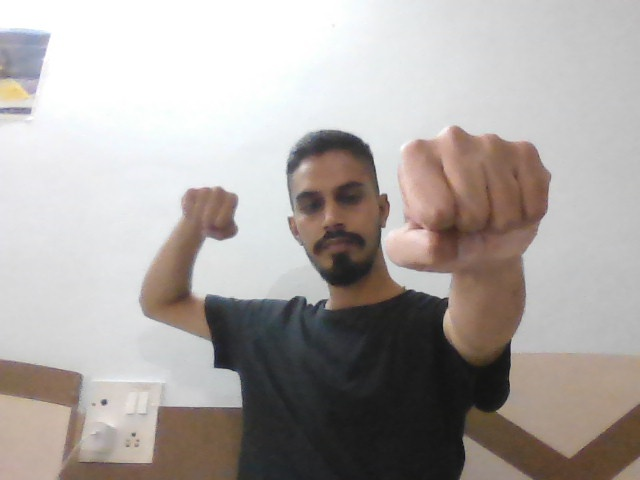Yes: (180, 184, 250, 245)
